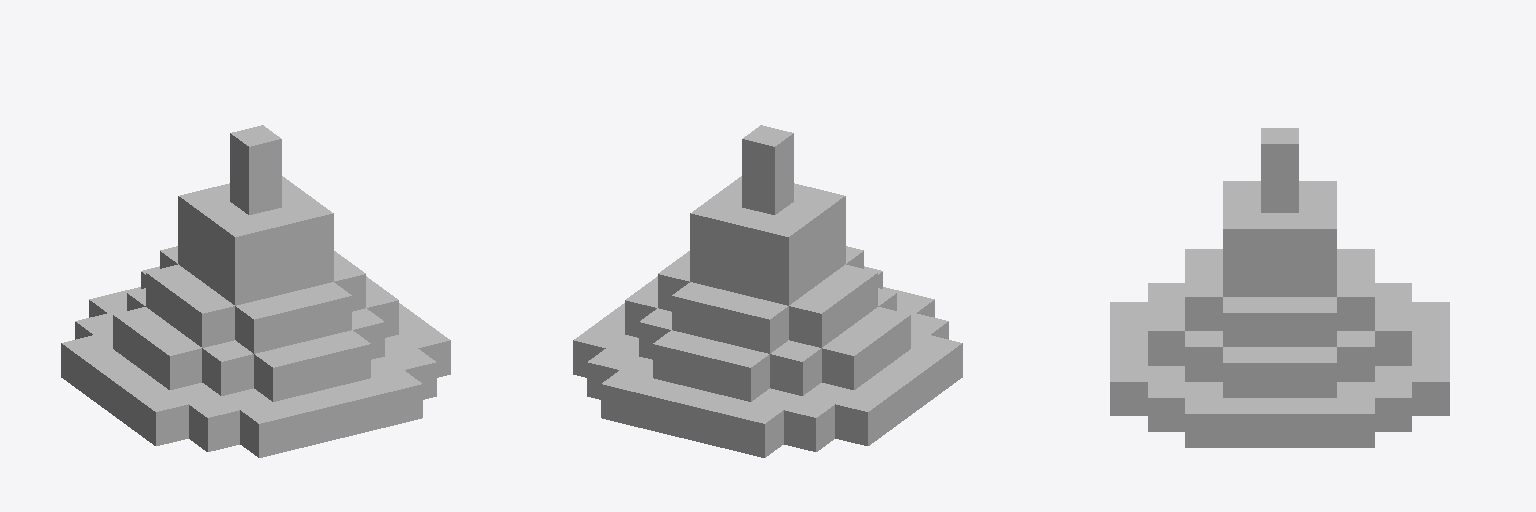
File: 0 jovem.obj
3 views of the same model, side by side, from view 1: azimuth 30°, elevation 25°; view 2: azimuth 150°, elevation 25°; view 3: azimuth 270°, elevation 25° (orthographic).
Parts seen in each view (by area): view 1: object 1; view 2: object 1; view 3: object 1.
Part boxes in pixels (bbox=[...]): object 1: bbox=[61, 125, 450, 457]; object 1: bbox=[573, 125, 962, 457]; object 1: bbox=[1110, 128, 1449, 447].
Bounding box in the file's own units: 0.9 × 0.7 × 0.9.